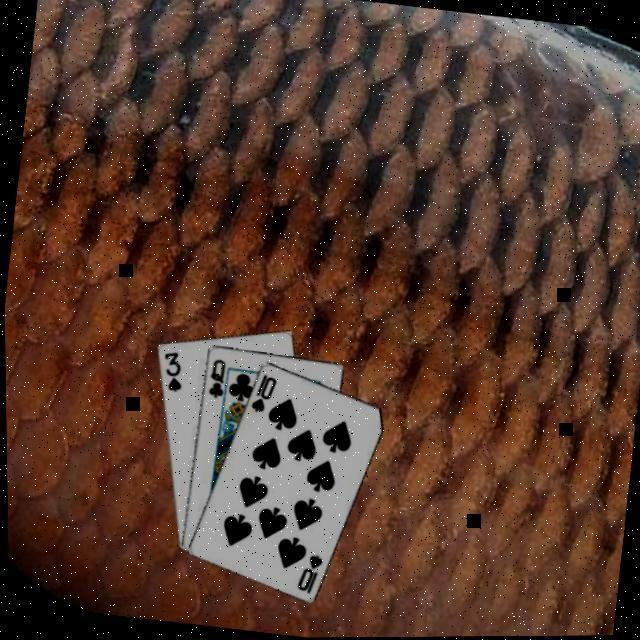10S: (244, 368, 278, 416), (290, 548, 324, 596)
3S: (154, 346, 186, 394)
QC: (202, 354, 228, 400)
